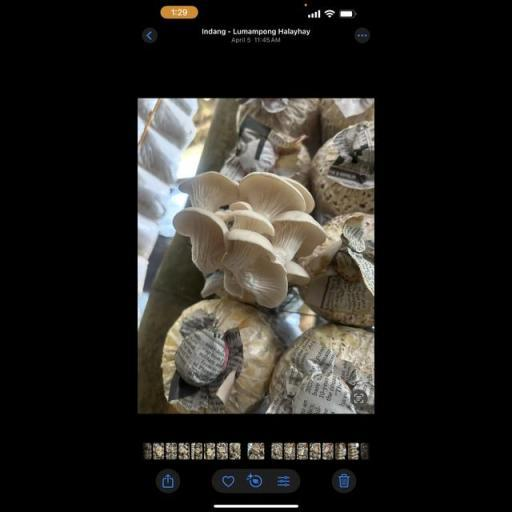White Oyster Mushroom: (163, 154, 332, 315)
